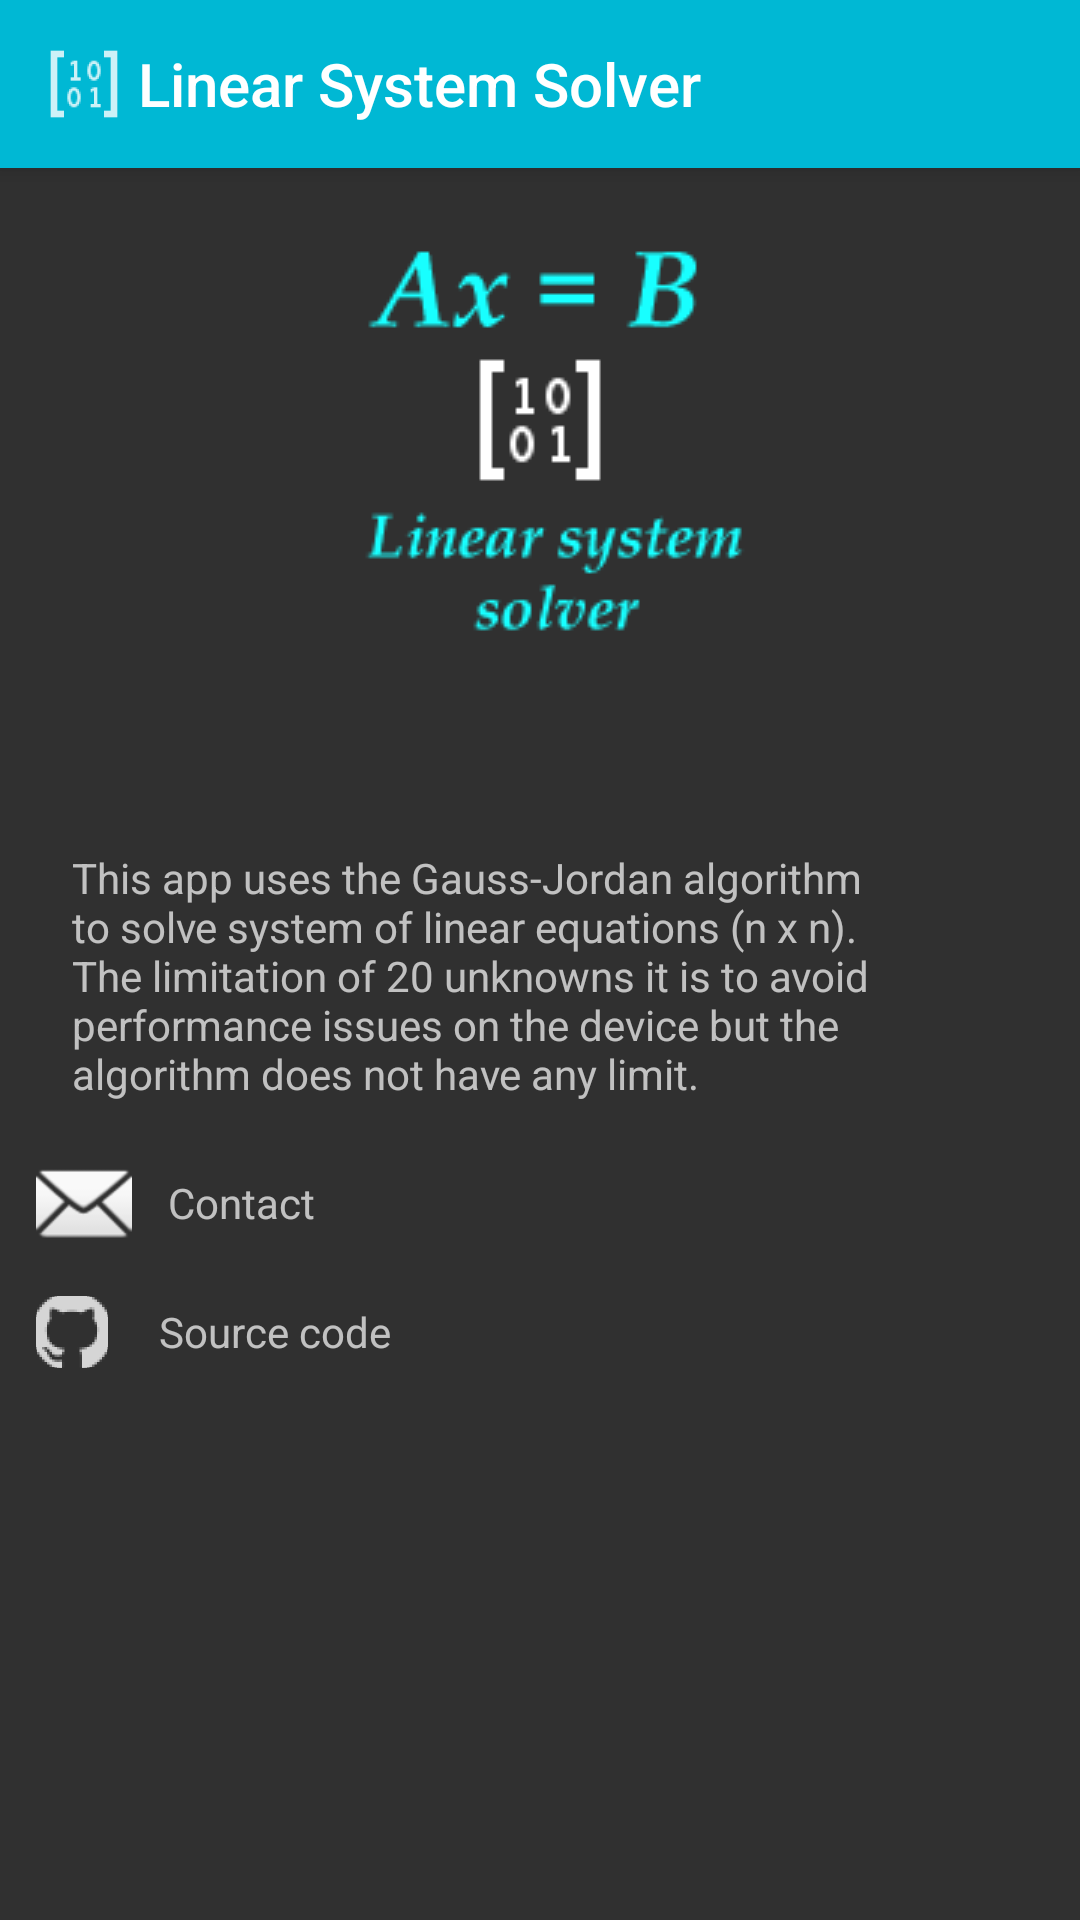

Point at icon controls on the screen. Image size 1080 × 1920, points as [x,y].
Email: [84,1204]
